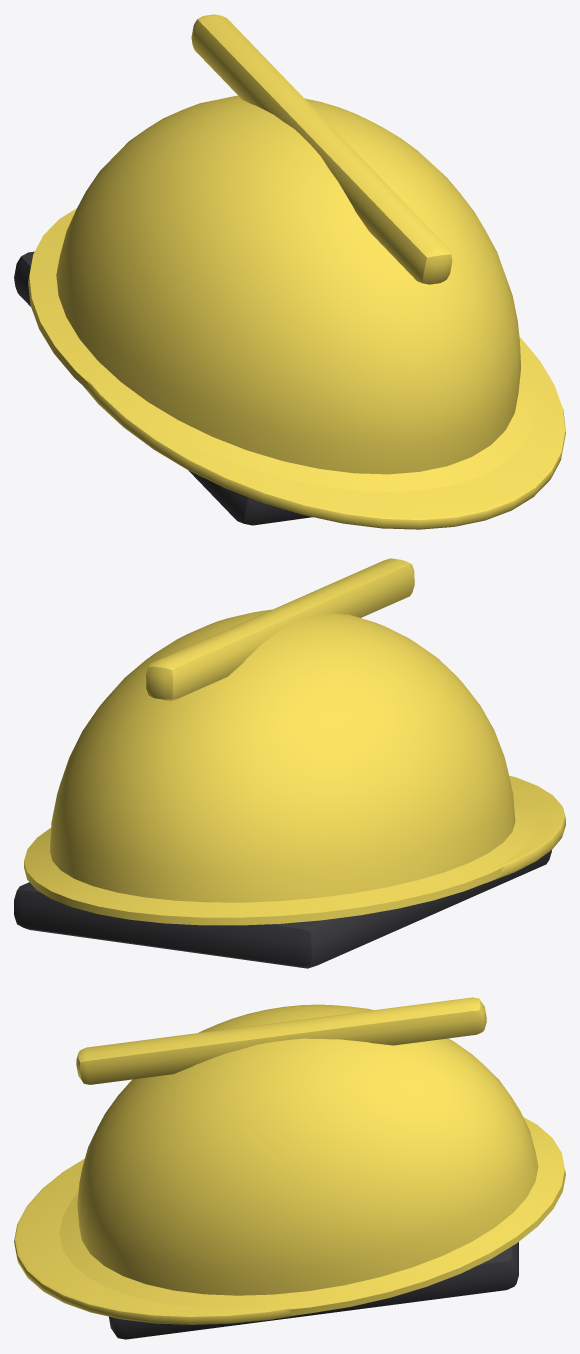
Rendered from SER-EPI-001_anim.glb.
3 views of the same model, one above another, from view 1: azimuth 30°, elevation 25°; view 2: azimuth 150°, elevation 25°; view 3: azimuth 270°, elevation 25° (orthographic). The views are drawn at different scales.
Visible parts, largest first — view 1: SER-EPI-001_anim0; view 2: SER-EPI-001_anim0; view 3: SER-EPI-001_anim0.
Part boxes in pixels (bbox=[...]): SER-EPI-001_anim0: bbox=[14, 14, 565, 529]; SER-EPI-001_anim0: bbox=[14, 558, 565, 968]; SER-EPI-001_anim0: bbox=[14, 997, 565, 1339].
Bounding box in the file's own units: 0.2995 × 0.2343 × 0.4011.
